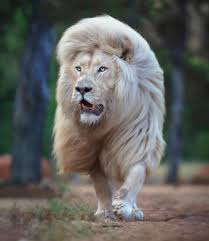lion: (40, 26, 164, 221)
